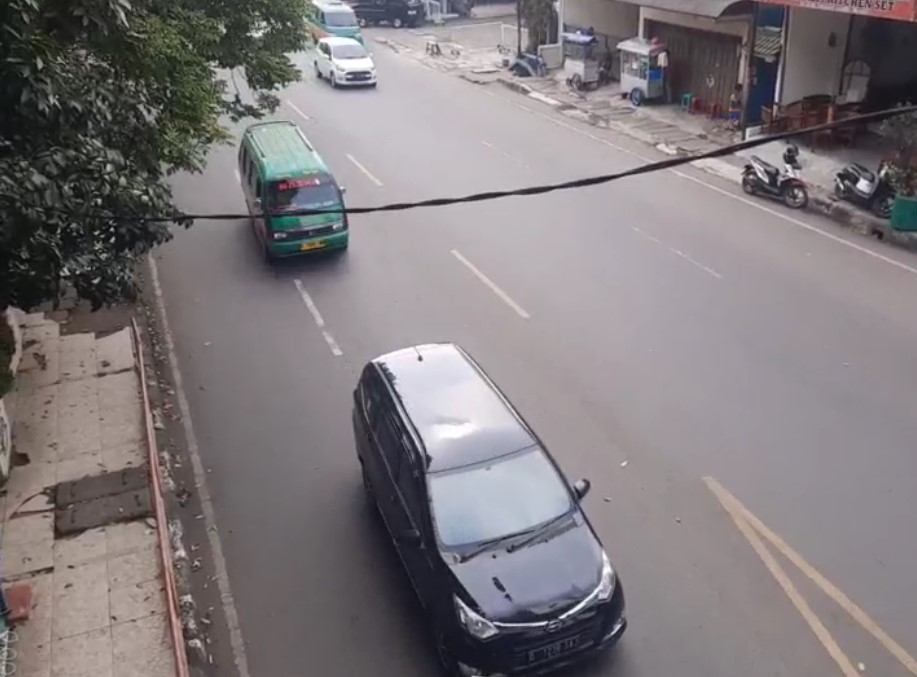mobil: (420, 445, 631, 677), (256, 172, 348, 265), (329, 41, 379, 90)
